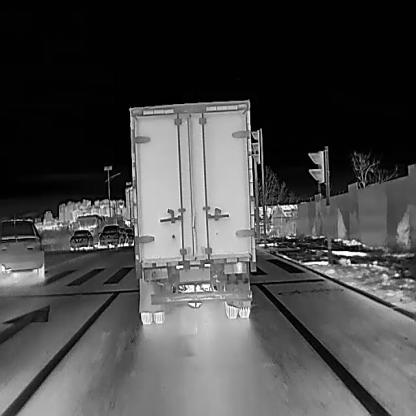bus: (73, 214, 108, 245)
car: (0, 213, 44, 276), (97, 224, 123, 246), (68, 228, 93, 250)
truck: (128, 98, 256, 324)
